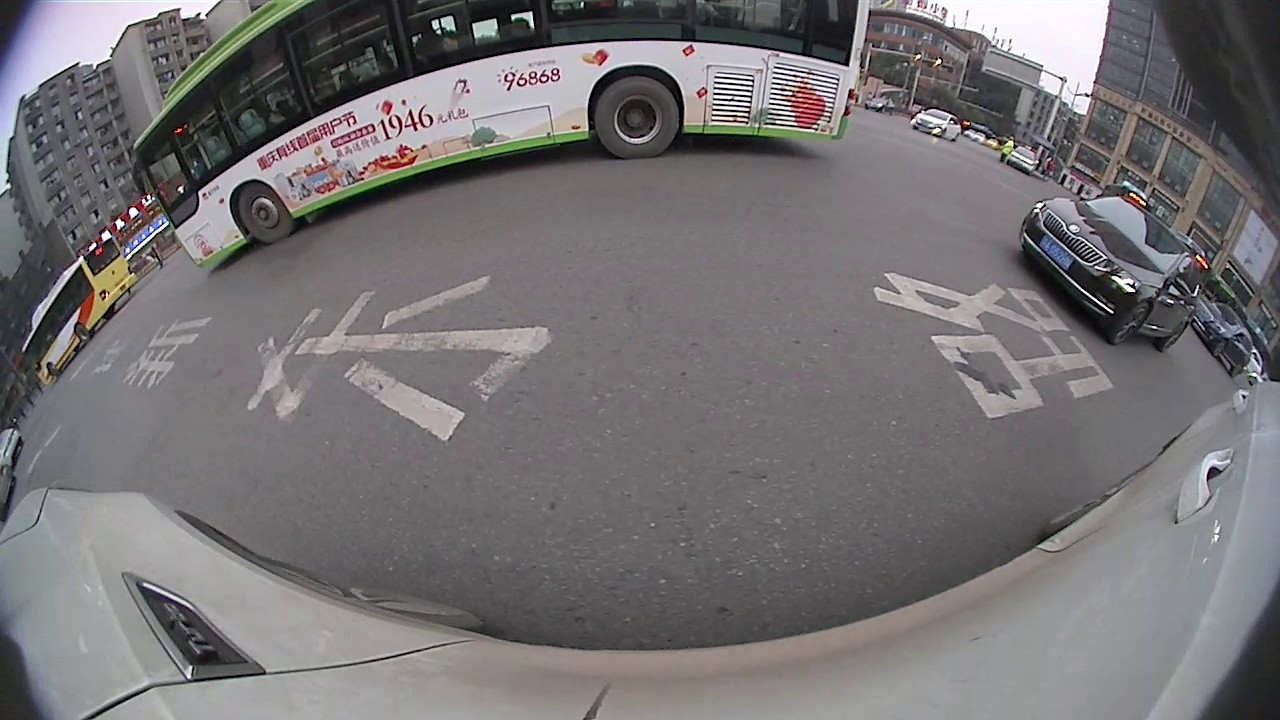car: (132, 90, 422, 301), (707, 88, 965, 217), (951, 189, 1152, 345), (1170, 379, 1264, 507), (3, 285, 95, 410)
front: (767, 138, 810, 183), (1046, 293, 1091, 334), (142, 258, 177, 298)
person: (461, 46, 484, 118)
rear: (222, 229, 279, 293), (913, 181, 946, 218), (1111, 316, 1138, 346)
